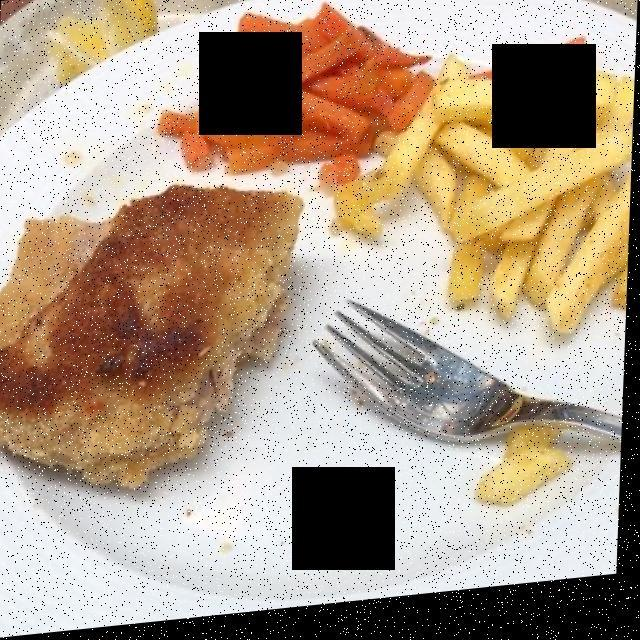carrot: (172, 17, 446, 178)
chips-french-fries: (342, 74, 625, 335)
pork-schnitzel-fried: (0, 189, 300, 483)
